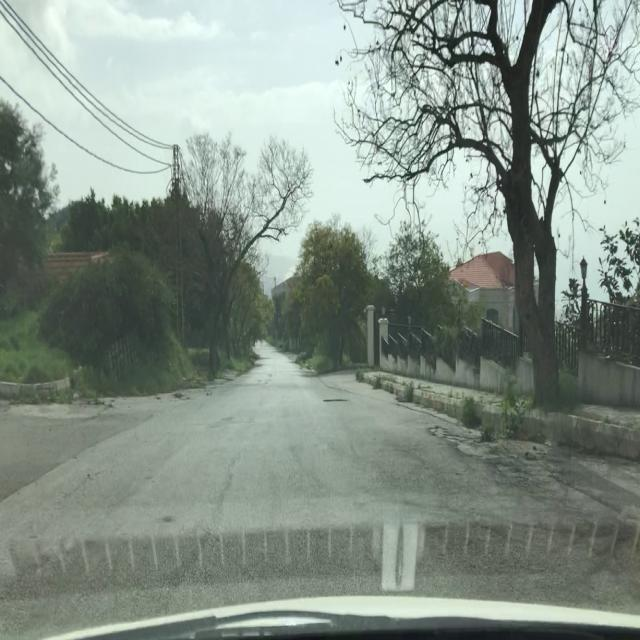Pothole: (322, 398, 349, 403)
